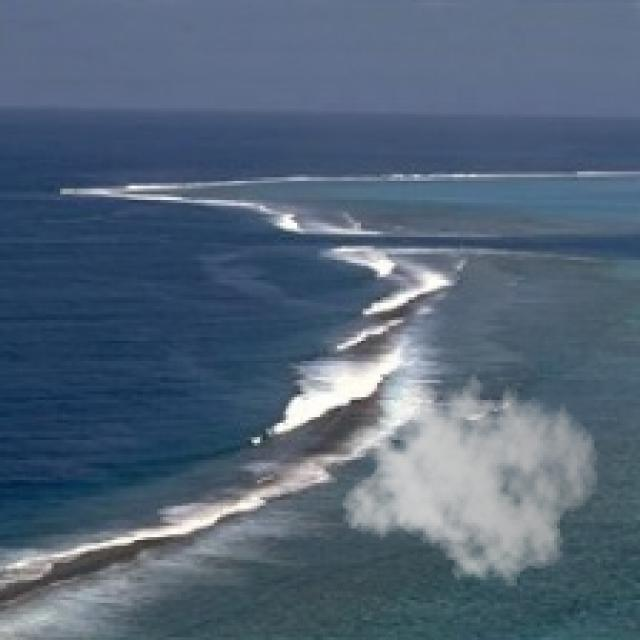Smoke: (340, 363, 600, 594)
